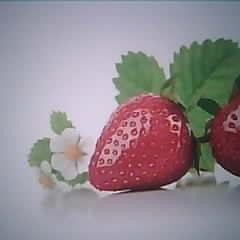straw-ripe: (89, 94, 195, 192)
